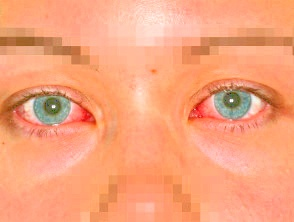SJS-TEN: (18, 0, 294, 96), (0, 132, 102, 222), (208, 142, 294, 222)
